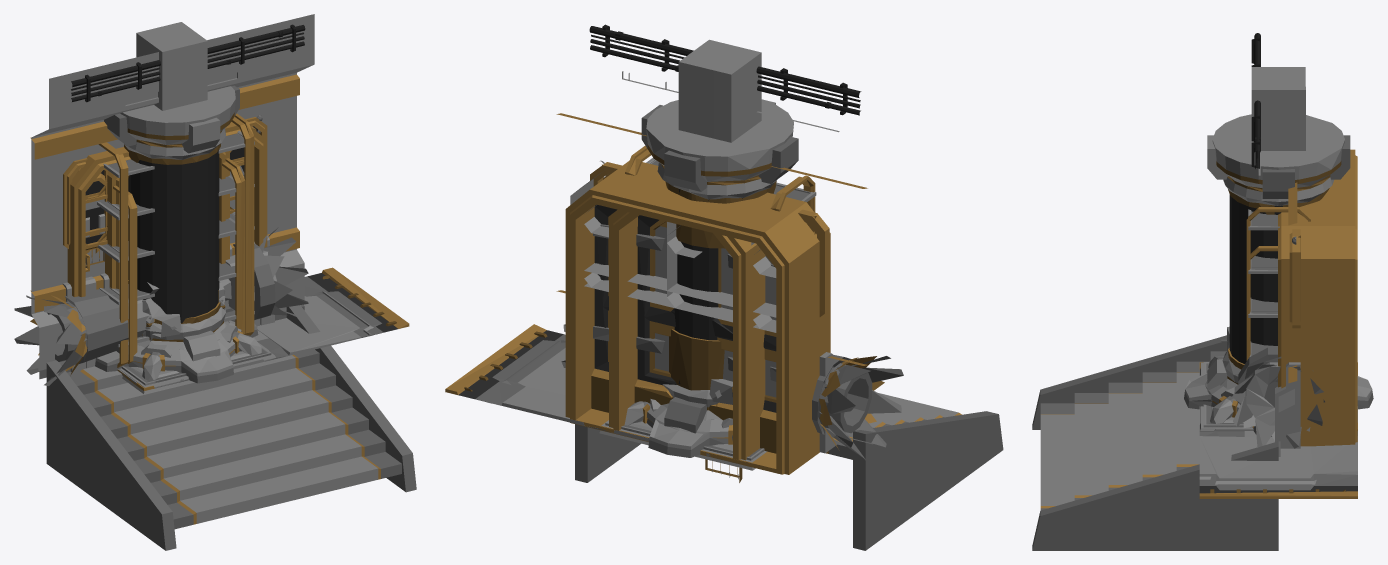
The model's file is scifi.glb.
3 renders of one model, left to right at view 1: azimuth 30°, elevation 25°; view 2: azimuth 150°, elevation 25°; view 3: azimuth 270°, elevation 25°, orthographic. The views are drawn at different scales.
Parts seen in each view (by area): view 1: Staircase, Props_Pod, DoorDouble_Wall_SideA, Wall_2, Props_Laser, DoorSingle_Wall_SideA, Props_Shelf_Tall, FloorTile_Double_Hallway, Props_Shelf, Wall_4, Pipes, Column_1 (+9 smaller); view 2: DoorDouble_Wall_SideA, Props_Pod, Staircase, DoorSingle_Wall_SideA, FloorTile_Double_Hallway, Door_Single, Props_Laser, Column_1, Door_Double, Pipes, Window_Wall_SideA, Column_2 (+6 smaller); view 3: Staircase, DoorDouble_Wall_SideA, Props_Pod, FloorTile_Double_Hallway, Props_Laser, Column_1, Props_Shelf_Tall, Column_3, Props_Base, Column_2, Window_Wall_SideA, Pipes (+1 smaller).
Boxes of the visible parts, bbox=[...] form: Staircase: bbox=[46, 305, 416, 550]; Props_Pod: bbox=[104, 85, 261, 380]; DoorDouble_Wall_SideA: bbox=[34, 17, 314, 372]; Wall_2: bbox=[31, 70, 304, 323]; Props_Laser: bbox=[14, 227, 308, 385]; DoorSingle_Wall_SideA: bbox=[30, 14, 314, 327]; Props_Shelf_Tall: bbox=[97, 113, 254, 367]; FloorTile_Double_Hallway: bbox=[118, 267, 409, 390]; Props_Shelf: bbox=[107, 158, 245, 363]; Wall_4: bbox=[34, 78, 299, 368]; Pipes: bbox=[71, 24, 305, 102]; Column_1: bbox=[137, 22, 207, 110]; DoorDouble_Wall_SideA: bbox=[556, 71, 867, 474]; Props_Pod: bbox=[624, 99, 798, 440]; Staircase: bbox=[575, 393, 1003, 550]; DoorSingle_Wall_SideA: bbox=[609, 82, 865, 463]; FloorTile_Double_Hallway: bbox=[445, 324, 752, 466]; Door_Single: bbox=[634, 215, 732, 420]; Props_Laser: bbox=[561, 324, 903, 460]; Column_1: bbox=[678, 39, 761, 138]; Door_Double: bbox=[591, 204, 776, 453]; Pipes: bbox=[589, 24, 861, 115]; Window_Wall_SideA: bbox=[570, 162, 829, 332]; Column_2: bbox=[680, 40, 759, 142]; Staircase: bbox=[1032, 335, 1278, 550]; DoorDouble_Wall_SideA: bbox=[1258, 149, 1357, 448]; Props_Pod: bbox=[1207, 114, 1350, 423]; FloorTile_Double_Hallway: bbox=[1199, 431, 1357, 498]; Props_Laser: bbox=[1221, 326, 1324, 448]; Column_1: bbox=[1251, 67, 1305, 150]; Props_Shelf_Tall: bbox=[1246, 207, 1310, 427]; Column_3: bbox=[1251, 67, 1305, 148]; Props_Base: bbox=[1184, 373, 1373, 436]; Column_2: bbox=[1251, 67, 1305, 150]; Window_Wall_SideA: bbox=[1280, 229, 1300, 444]; Pipes: bbox=[1251, 33, 1260, 168].
Bounding box in the file's own units: 5.08 × 5.7 × 4.31.
